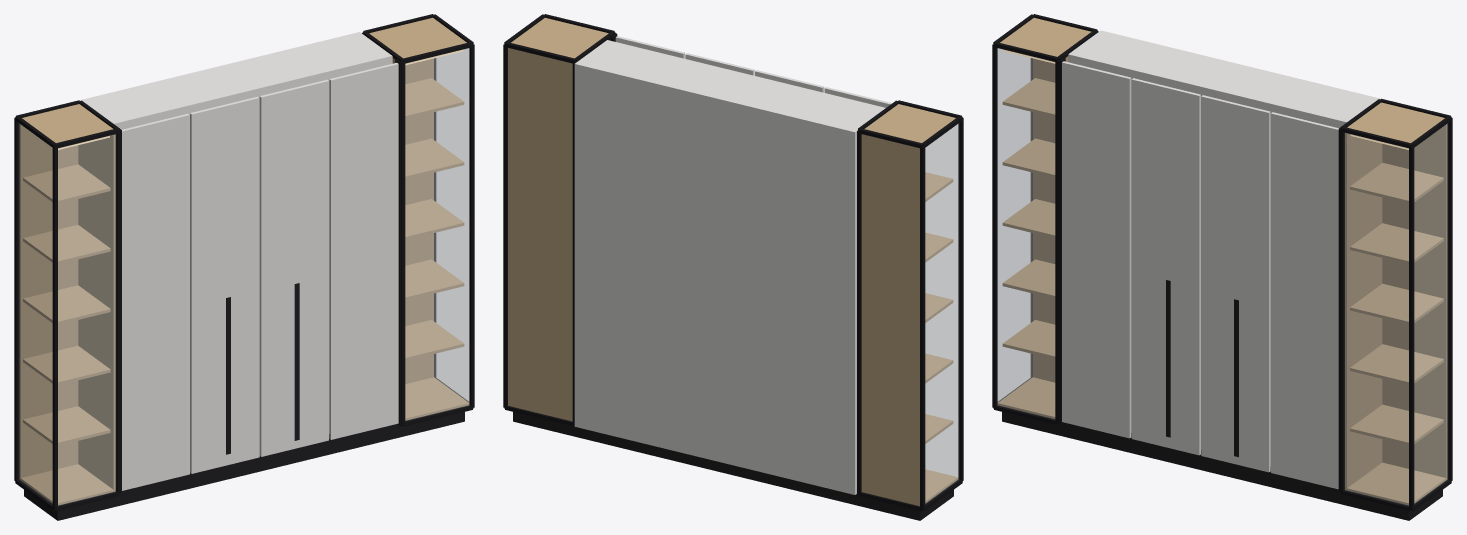
File: bm-cabinet.glb
3 renders of one model, left to right at view 1: azimuth 30°, elevation 25°; view 2: azimuth 150°, elevation 25°; view 3: azimuth 330°, elevation 25°, orthographic.
Visible parts, largest first — view 1: Door_3, Door_2, Door_0, Door_1, RightCab_glassF, LeftCab_glassF, LeftCab_glassL, LeftCab_back, Carcass, LeftCab_sR, RightCab_glassR, LeftCab_frame (+20 smaller); view 2: Carcass, RightCab_back, LeftCab_back, LeftCab_glassL, LeftCab_glassF, LeftCab_frame, Plinth, RightCab_frame, RightCab_top, LeftCab_top, LeftCab_bot; view 3: Door_0, Door_1, Door_3, Door_2, RightCab_glassF, LeftCab_glassF, RightCab_back, Carcass, RightCab_glassR, RightCab_sL, LeftCab_glassL, RightCab_frame (+21 smaller).
Part boxes in pixels (box(x1,y1,x2,y2)): Door_3: box(329, 62, 398, 439); Door_2: box(259, 79, 328, 456); Door_0: box(122, 113, 189, 490); Door_1: box(190, 96, 259, 473); RightCab_glassF: box(405, 48, 469, 420); LeftCab_glassF: box(58, 134, 115, 505); LeftCab_glassL: box(19, 124, 52, 503); LeftCab_back: box(19, 124, 78, 479); Carcass: box(79, 32, 392, 433); LeftCab_sR: box(78, 134, 115, 489); RightCab_glassR: box(434, 49, 468, 401); LeftCab_frame: box(14, 100, 120, 511); Carcass: box(574, 40, 885, 494); RightCab_back: box(508, 48, 572, 421); LeftCab_back: box(861, 134, 919, 506); LeftCab_glassL: box(925, 124, 958, 503); LeftCab_glassF: box(926, 124, 957, 476); LeftCab_frame: box(857, 100, 963, 511); Plinth: box(513, 412, 953, 520); RightCab_frame: box(503, 14, 616, 426); RightCab_top: box(511, 17, 608, 58); LeftCab_top: box(864, 104, 955, 142); LeftCab_bot: box(925, 469, 958, 503); Door_0: box(1062, 61, 1131, 438); Door_1: box(1131, 78, 1200, 455); Door_3: box(1271, 112, 1338, 489); Door_2: box(1201, 95, 1270, 472); RightCab_glassF: box(1345, 133, 1408, 505); LeftCab_glassF: box(997, 48, 1054, 419); RightCab_back: box(1382, 124, 1447, 479); Carcass: box(1068, 30, 1380, 466); RightCab_glassR: box(1414, 124, 1447, 503); RightCab_sL: box(1345, 133, 1382, 487); LeftCab_glassL: box(998, 49, 1032, 401); RightCab_frame: box(1339, 98, 1452, 511).
Bounding box in the file's own units: 2.67 × 2.3 × 0.461.
